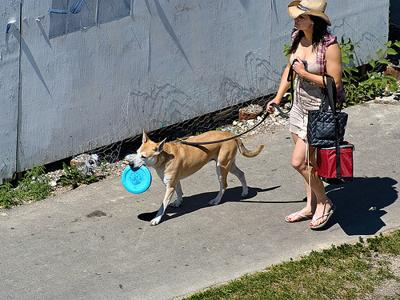person: (266, 1, 350, 230)
